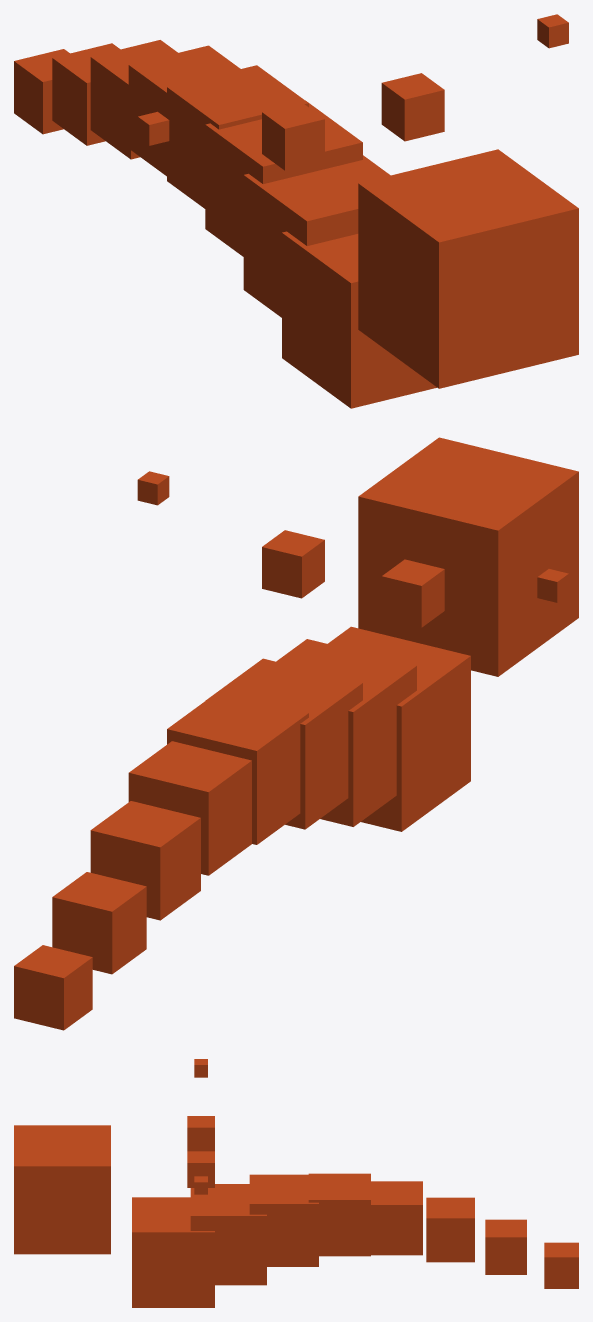
File: dragon_desert.obj
The picture shows the model from 3 angles, top to bottom: view 1: azimuth 30°, elevation 25°; view 2: azimuth 150°, elevation 25°; view 3: azimuth 270°, elevation 25°; orthographic projection. The views are drawn at different scales.
Parts seen in each view (by area): view 1: dragon_desert; view 2: dragon_desert; view 3: dragon_desert.
Part boxes in pixels (x1,y1,x2,y2): dragon_desert: (14,14,578,408); dragon_desert: (14,437,578,1030); dragon_desert: (14,1059,578,1307).
Bounding box in the file's own units: 2.1 × 1.35 × 4.07.
